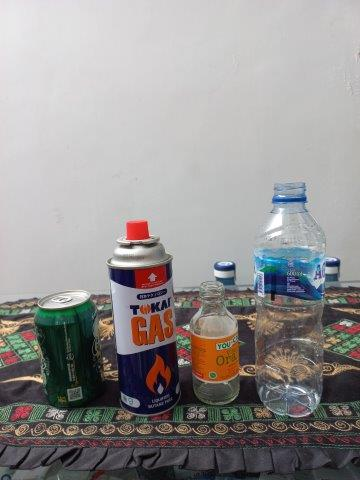botolkaca: (190, 281, 240, 407)
botolplastik: (254, 185, 325, 415)
kaleng: (107, 220, 181, 415), (34, 290, 99, 407)
